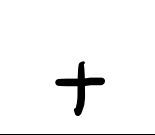plus: (56, 62, 105, 116)
